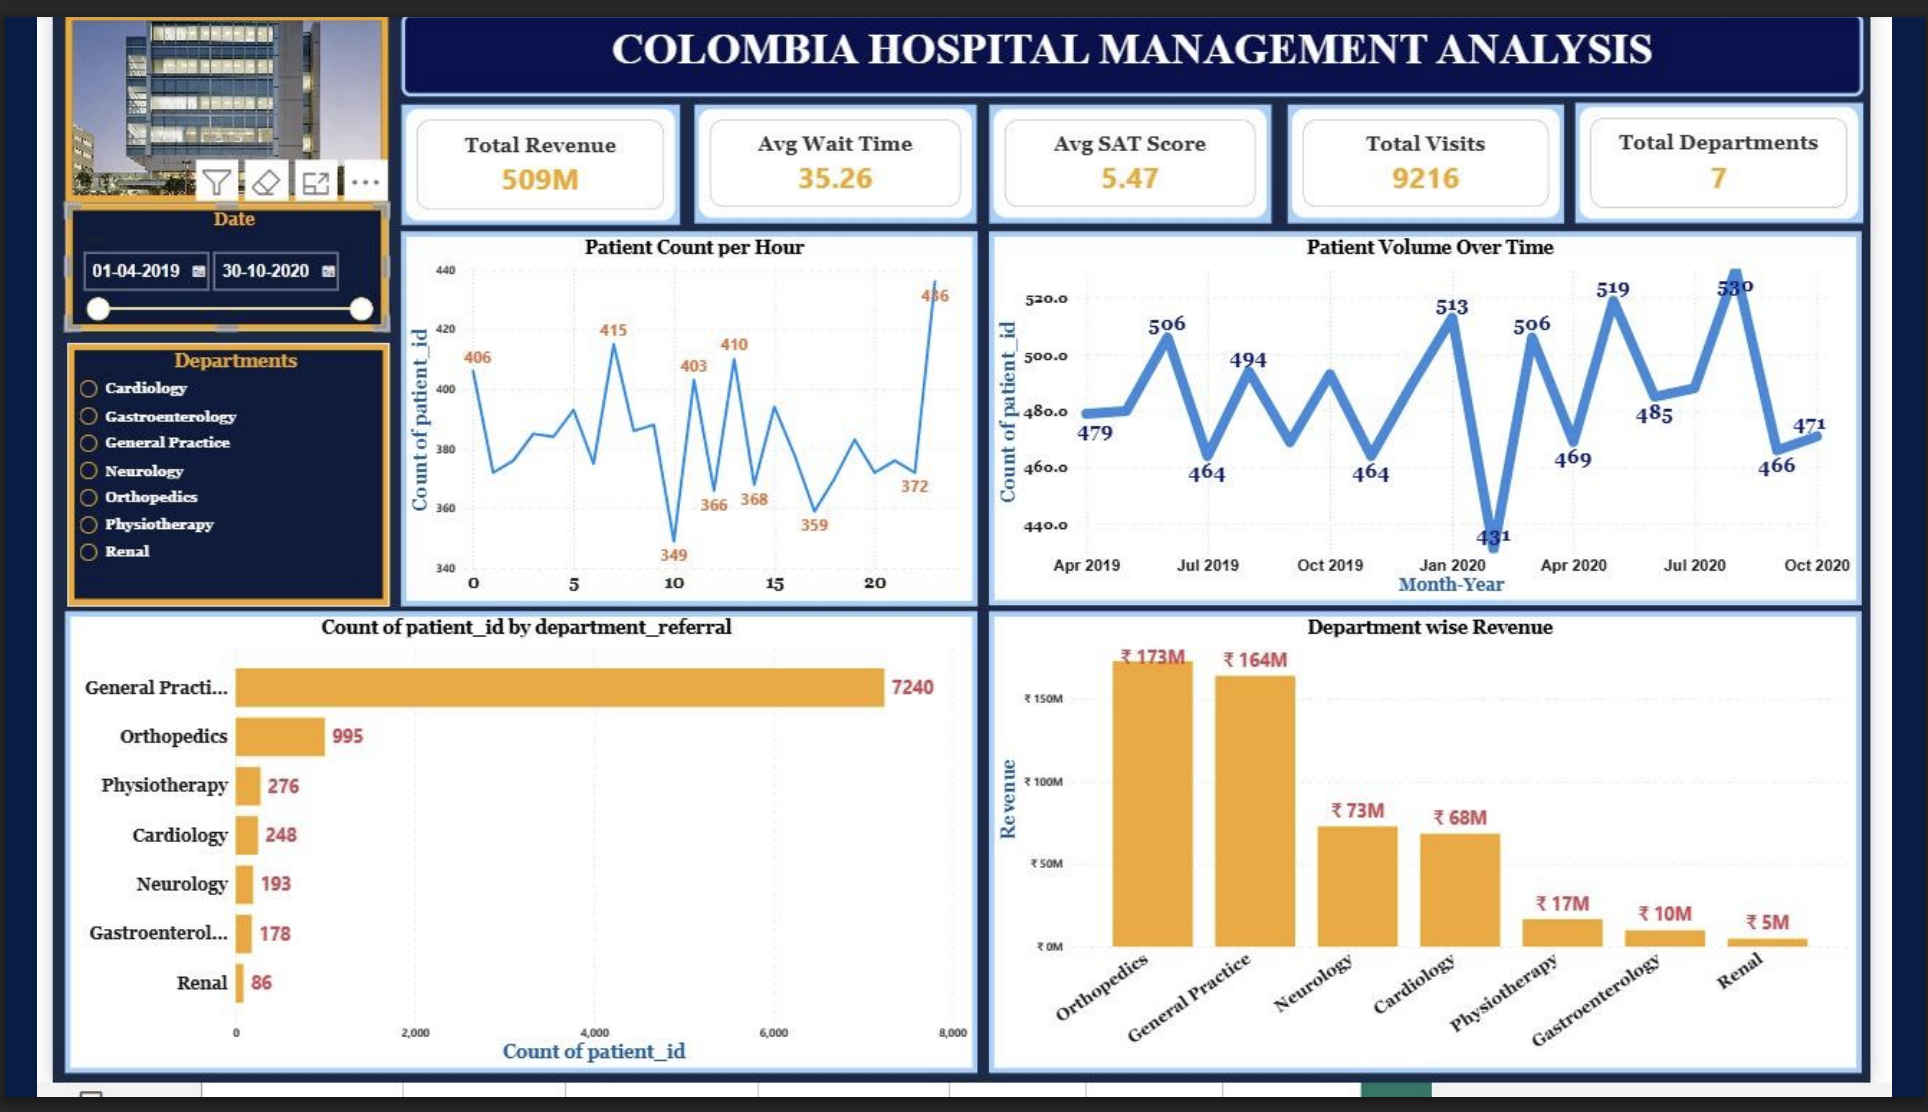

The page's visual inventory and layout, read from the dashboard file:
{"tool":"powerbi","page":{"name":"Main Tab","canvas":[2000,1180],"ordinal":1},"visuals":[{"type":"cardVisual","fields":{"Data":["Hospital ER.Total Visits"]},"box":[1358.3,101.4,304.2,131],"z":0},{"type":"cardVisual","fields":{"Data":["Hospital ER.Avg Wait Time"]},"box":[705.5,101.4,310.5,131],"z":1000},{"type":"cardVisual","fields":{"Data":["Hospital ER.Total Revenue"]},"box":[384.5,101.4,306.3,133.1],"z":2000},{"type":"clusteredColumnChart","title":"Department wise Revenue","fields":{"Category":["Hospital ER.department_referral"],"Y":["Sum(Doctor's data.Total Bill)"]},"box":[1030.8,661.2,959,509.1],"z":3000},{"type":"textbox","box":[383.8,0,1608.3,91.7],"z":4000},{"type":"cardVisual","fields":{"Data":["Hospital ER.Total Departments"]},"box":[1675.1,99.3,316.9,133.1],"z":5000},{"type":"lineChart","title":"Patient Volume Over Time","fields":{"Y":["CountNonNull(Hospital ER.patient_id)"],"Category":["Hospital ER.Month-Year"]},"box":[1030.8,240.8,959,411.9],"z":6000},{"type":"cardVisual","fields":{"Data":["Hospital ER.Avg SAT Score"]},"box":[1030.8,101.4,310.5,131],"z":7000},{"type":"listSlicer","title":"Departments","fields":{"Values":["Hospital ER.department_referral"]},"box":[15.3,363.4,355,290.4],"z":8000},{"type":"image","box":[14.8,0,354.9,209.1],"z":9000},{"type":"slicer","title":"Date","fields":{"Values":["DateTable.Date"]},"box":[14.8,209.1,354.9,141.5],"z":10000},{"type":"clusteredBarChart","fields":{"Y":["CountNonNull(Doctor's data.patient_id)"],"Category":["Doctor's data.department_referral"]},"box":[14.8,661.2,1003.4,509.1],"z":11000},{"type":"lineChart","title":"Patient Count per Hour","fields":{"Y":["CountNonNull(Hospital ER.patient_id)"],"Category":["Hospital ER.Hour"]},"box":[383.8,241.2,633.5,412.7],"z":12000}]}

Visuals, with their boxes in screenshot pixels (x1, y1, x2, y2), scaled from the page's 2000x1180 canvas onto the 1928x1112 screenshot:
cardVisual - Hospital ER.Total Visits: rect(1309, 96, 1603, 219)
cardVisual - Hospital ER.Avg Wait Time: rect(680, 96, 979, 219)
cardVisual - Hospital ER.Total Revenue: rect(371, 96, 666, 221)
"Department wise Revenue" clusteredColumnChart: rect(994, 623, 1918, 1103)
textbox: rect(370, 0, 1920, 86)
cardVisual - Hospital ER.Total Departments: rect(1615, 94, 1920, 219)
"Patient Volume Over Time" lineChart: rect(994, 227, 1918, 615)
cardVisual - Hospital ER.Avg SAT Score: rect(994, 96, 1293, 219)
"Departments" listSlicer: rect(15, 342, 357, 616)
image: rect(14, 0, 356, 197)
"Date" slicer: rect(14, 197, 356, 330)
clusteredBarChart - CountNonNull(Doctor's data.patient_id) x Doctor's data.department_referral: rect(14, 623, 982, 1103)
"Patient Count per Hour" lineChart: rect(370, 227, 981, 616)
